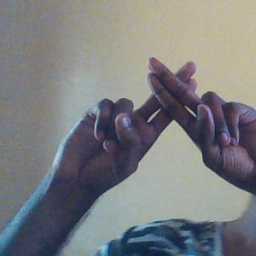F: (122, 46, 230, 163)
